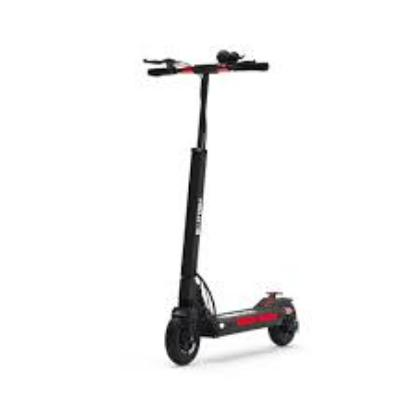bike: (142, 50, 299, 367)
